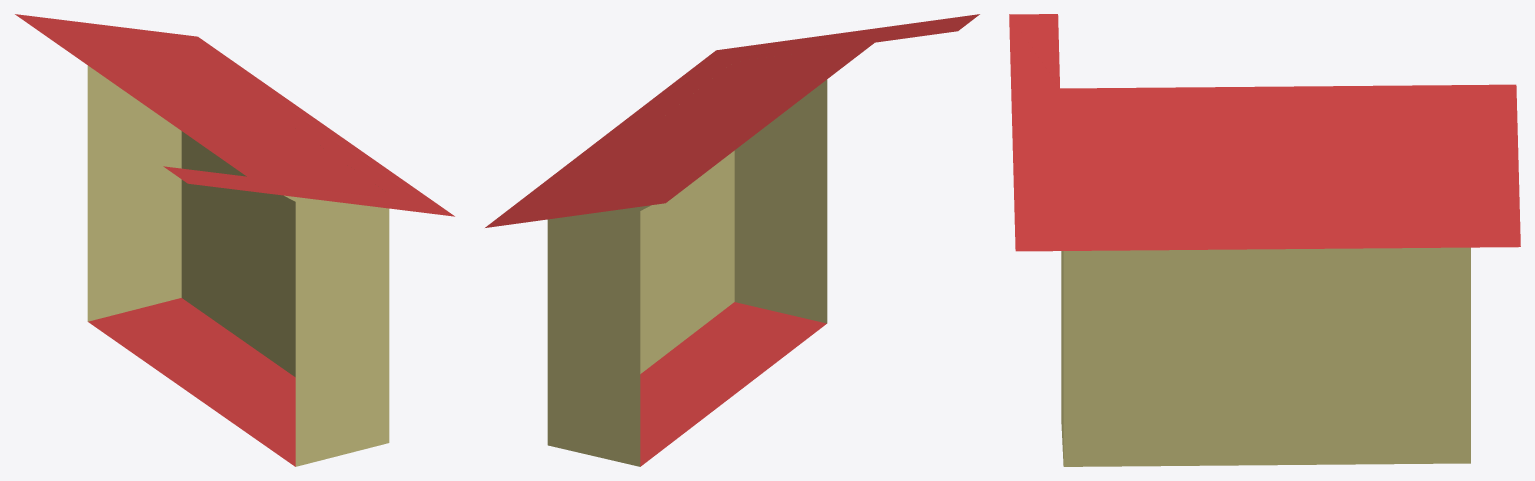
3 views of the same model, side by side, from view 1: azimuth 30°, elevation 25°; view 2: azimuth 150°, elevation 25°; view 3: azimuth 270°, elevation 25° (orthographic). The views are drawn at different scales.
Bounding box in the file's own units: 9.75 × 15.66 × 11.47.
